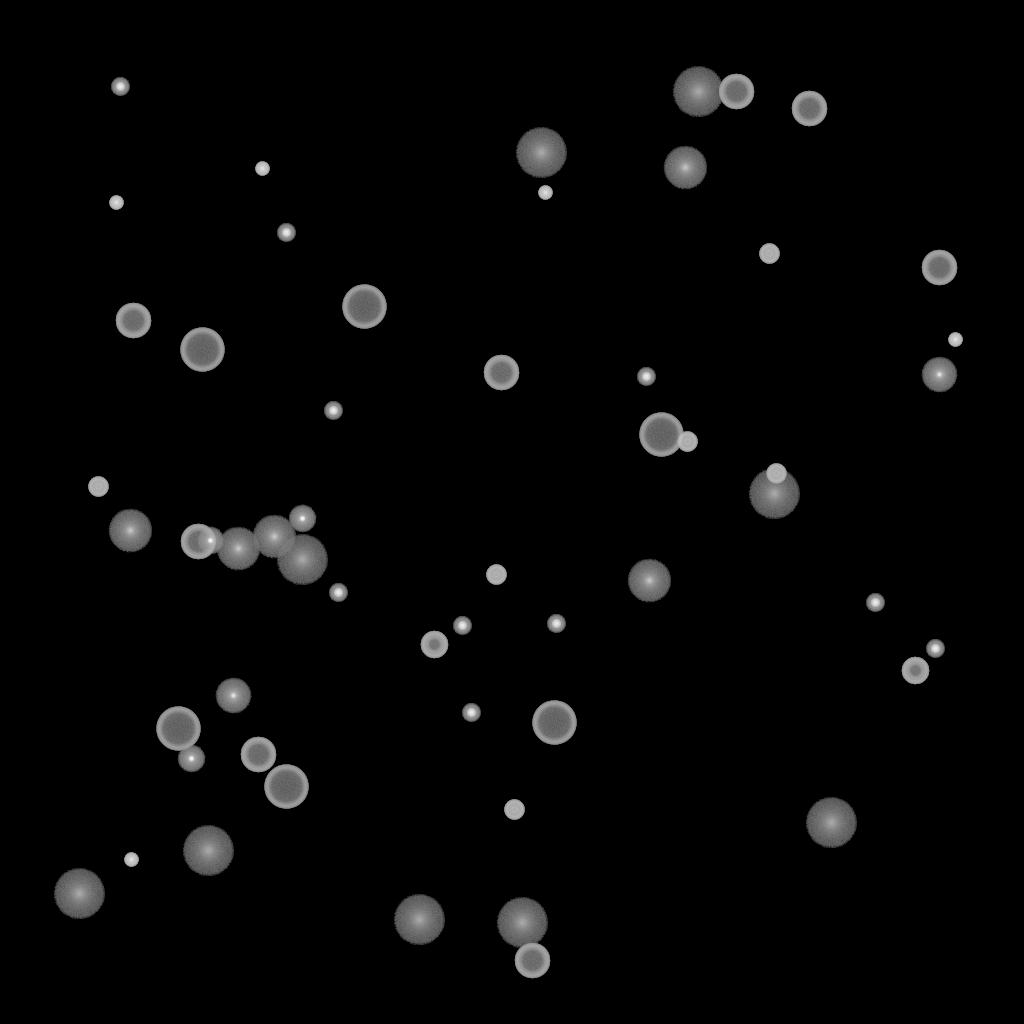depth:-10: (196, 527, 224, 555), (288, 505, 316, 533), (177, 745, 205, 773)
depth:-20: (547, 615, 565, 633), (277, 224, 295, 242), (637, 368, 655, 386), (324, 402, 342, 420), (111, 78, 129, 96), (926, 640, 944, 658), (453, 617, 471, 635), (866, 594, 884, 612), (329, 584, 347, 602), (462, 704, 480, 722)
depth:-30: (538, 186, 552, 200), (255, 162, 269, 176), (124, 853, 138, 867), (109, 196, 123, 210), (948, 333, 962, 347)
depth:-40: (486, 565, 506, 585), (677, 432, 697, 452), (766, 464, 786, 484), (504, 800, 524, 820), (759, 244, 779, 264), (88, 477, 108, 497)
depth:-50: (901, 657, 929, 685), (420, 631, 448, 659)
depth:-60: (115, 303, 151, 339), (483, 355, 519, 391), (921, 250, 957, 286), (240, 737, 276, 773), (514, 943, 550, 979), (180, 524, 216, 560), (718, 74, 754, 110), (791, 91, 827, 127)
depth:-70: (264, 765, 308, 809), (156, 707, 200, 751), (639, 413, 683, 457), (532, 701, 576, 745), (180, 328, 224, 372), (342, 285, 386, 329)
depth:0: (215, 678, 251, 714), (921, 357, 957, 393)
depth:10: (108, 509, 152, 553), (627, 559, 671, 603), (663, 146, 707, 190), (216, 527, 260, 571), (252, 515, 296, 559)
depth:20: (276, 535, 328, 585), (748, 469, 800, 519), (393, 895, 445, 945), (672, 67, 724, 117), (805, 798, 857, 848), (182, 826, 234, 876), (515, 128, 567, 178), (53, 869, 105, 919), (496, 898, 548, 948)
